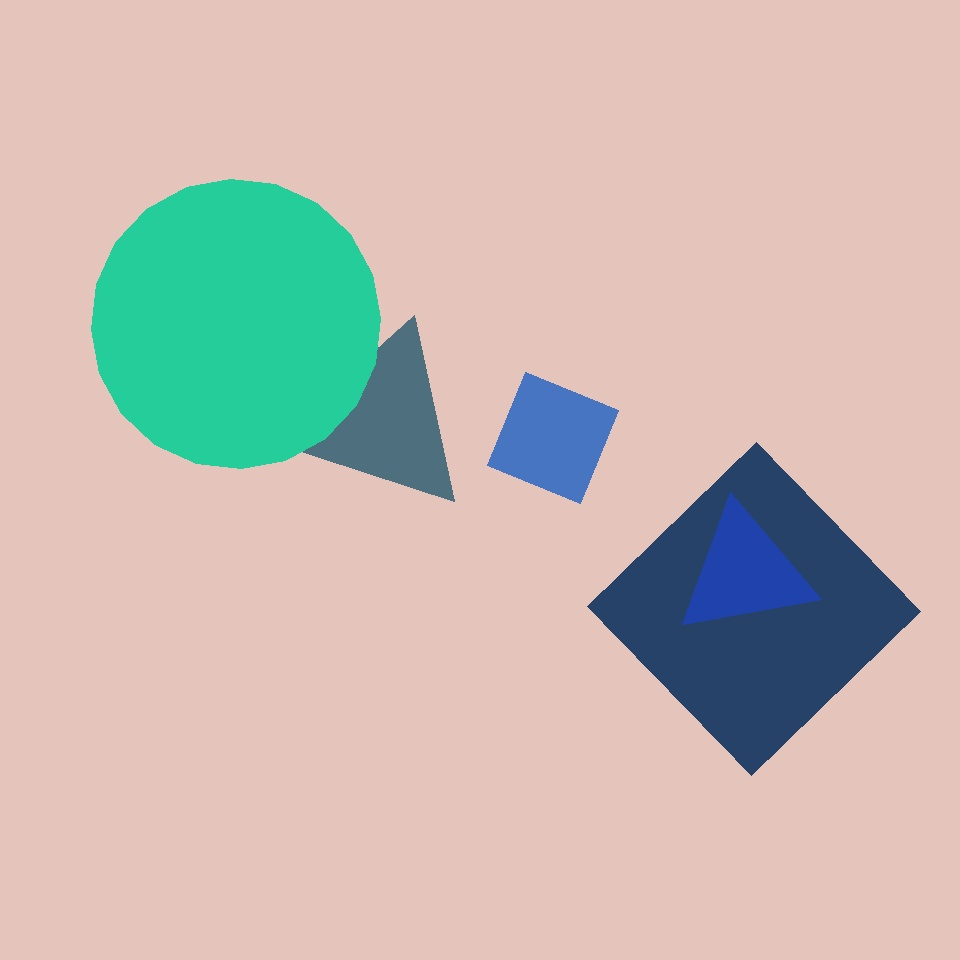circle: (290, 327, 471, 513), (676, 506, 814, 638)
square: (588, 442, 920, 776), (619, 598, 836, 815), (180, 372, 370, 562), (488, 372, 618, 503)
triangle: (408, 406, 775, 773), (92, 180, 380, 468)
